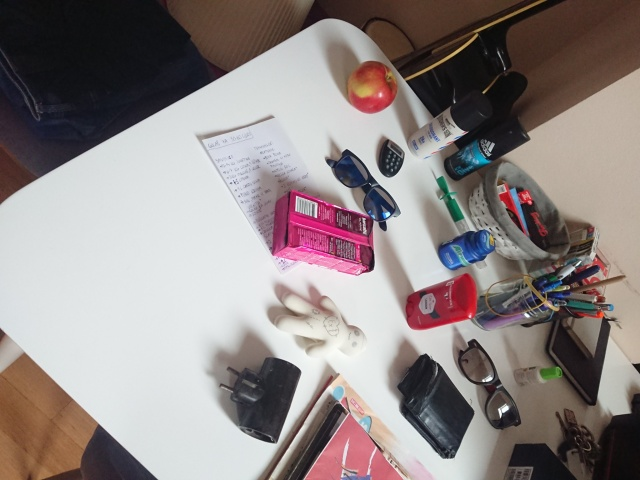Barcaffe Classic Original 225g: (270, 188, 377, 277)
